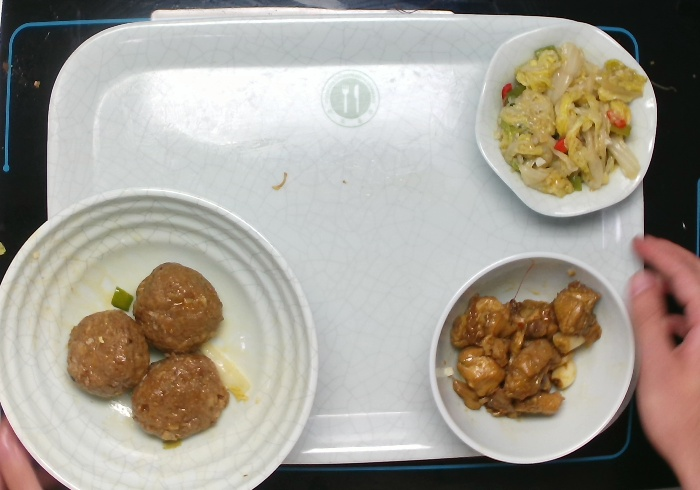JYsf-Da_Tang_Wan: (1, 186, 323, 490)
JYsf-Fan_Wan: (426, 251, 636, 464)
WCQzf-Hua_Duo_Wan: (473, 21, 659, 220)
